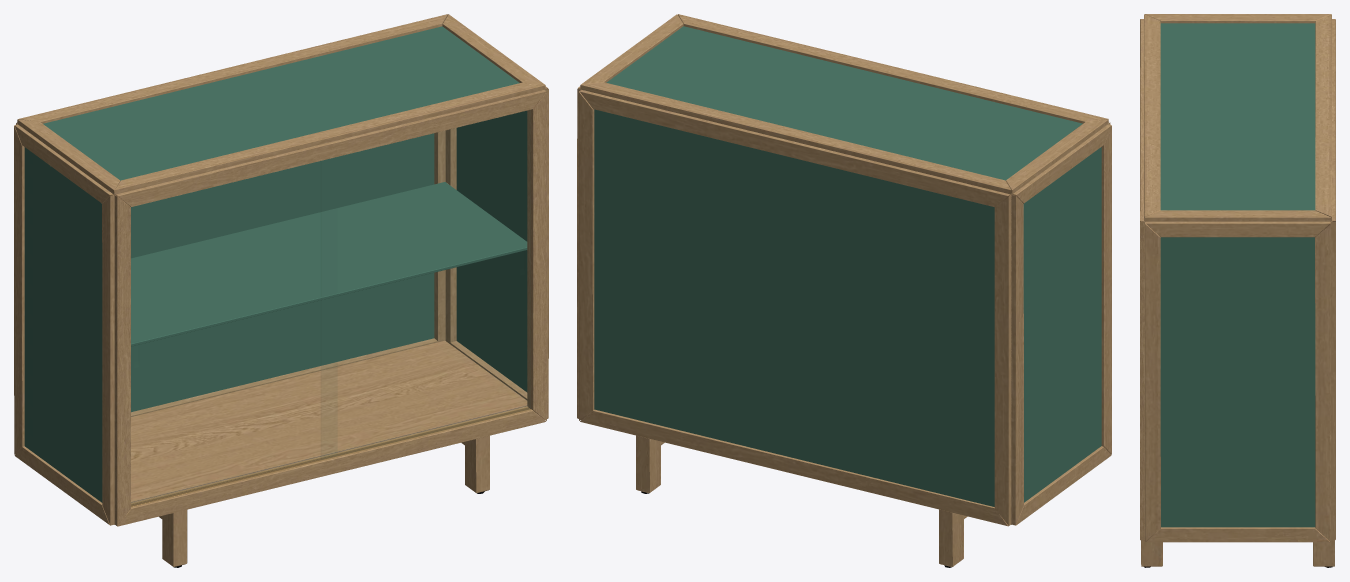
Rendered from stockholm-2025-vitrina-chapa-roble.glb.
3 renders of one model, left to right at view 1: azimuth 30°, elevation 25°; view 2: azimuth 150°, elevation 25°; view 3: azimuth 270°, elevation 25°, orthographic. The views are drawn at different scales.
Visible parts, largest first — view 1: ASY_ART_60586692_S01_NV01, ASY_LPT01_60586692_S01_NV01; view 2: ASY_ART_60586692_S01_NV01; view 3: ASY_ART_60586692_S01_NV01, ASY_LPT01_60586692_S01_NV01.
Part boxes in pixels (left/top/right/bottom): ASY_ART_60586692_S01_NV01: left=14, top=14, right=548, bottom=567; ASY_LPT01_60586692_S01_NV01: left=114, top=90, right=546, bottom=526; ASY_ART_60586692_S01_NV01: left=577, top=14, right=1111, bottom=567; ASY_ART_60586692_S01_NV01: left=1141, top=14, right=1335, bottom=567; ASY_LPT01_60586692_S01_NV01: left=1140, top=19, right=1145, bottom=540.
Size of the model in its own units: 1 by 0.855 by 0.4001.
Materials: 5 (3 with a texture image).
